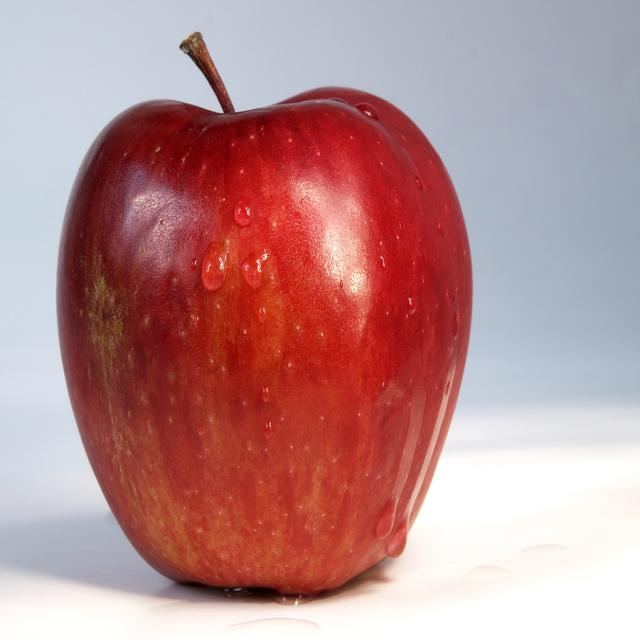Apple: (51, 27, 481, 601)
